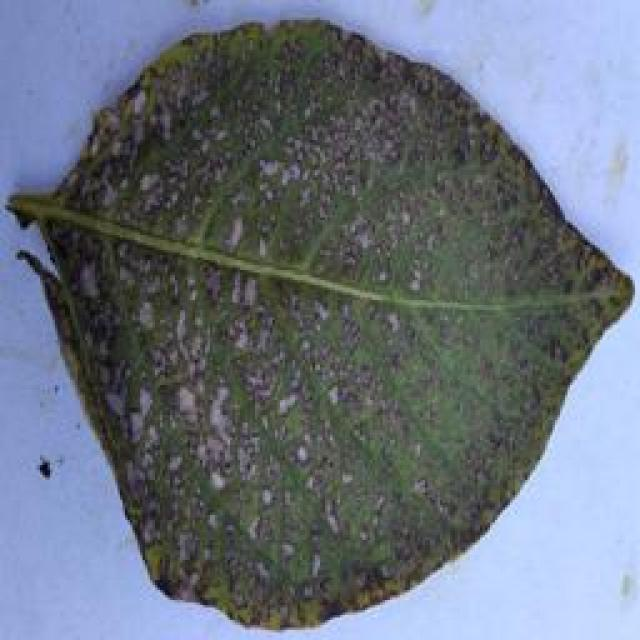Potato_Early_Blight: (16, 23, 630, 634)
